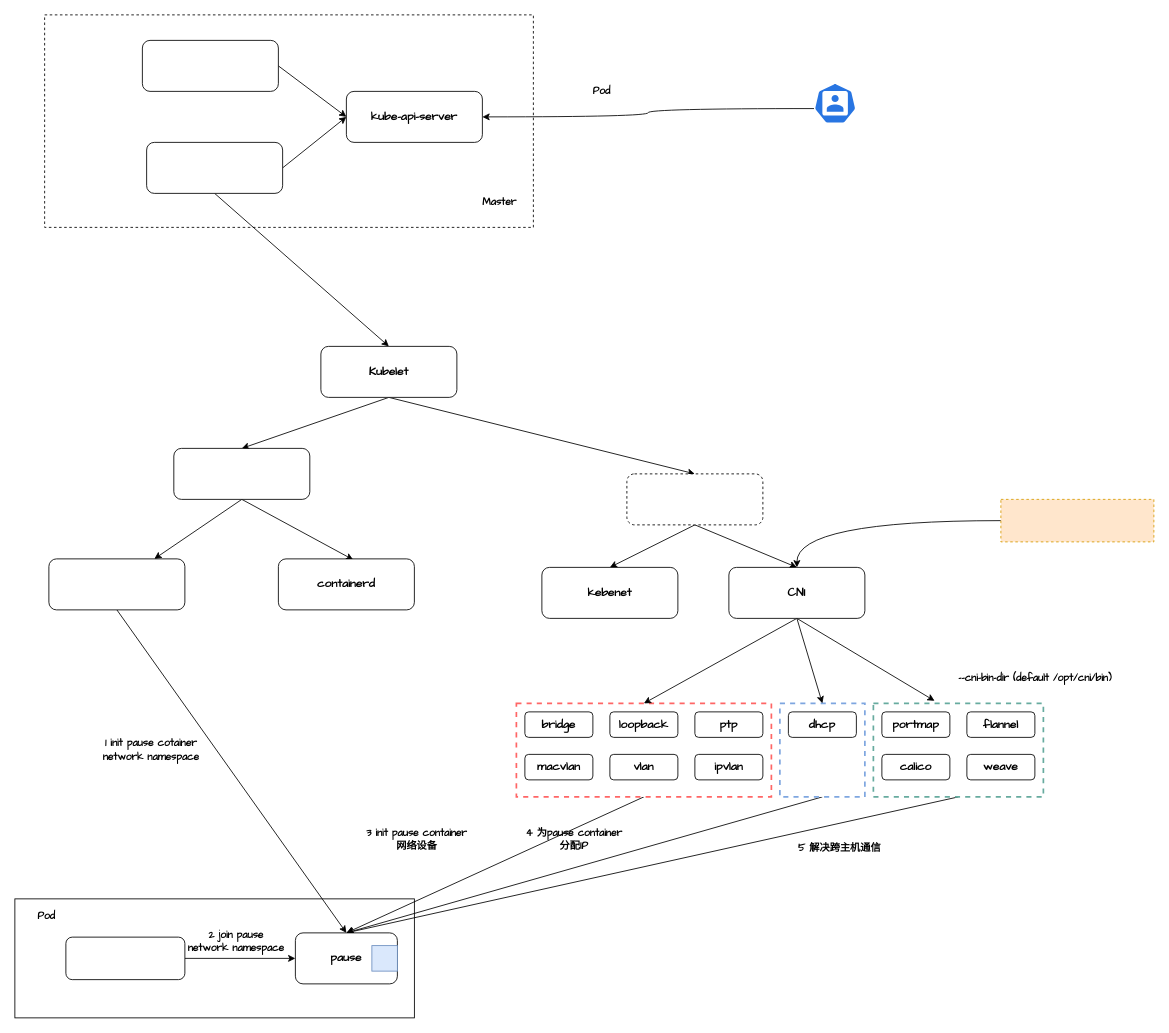
Image size: 1169x1033. Some labels were removed from this diagram. The box of each missing label's shape, as (x1, y1, x2, y2) in pixels:
--cni-conf-dir default etc/cni/net.d: (1000, 499, 1154, 542)
container: (65, 936, 185, 980)
CRI: (173, 448, 310, 499)
dockershim: (48, 558, 185, 610)
eth0: (371, 945, 397, 971)
kube-controller-manager: (146, 142, 283, 193)
kube-sccedu: (142, 40, 278, 91)
Network Driver: (626, 473, 763, 525)
